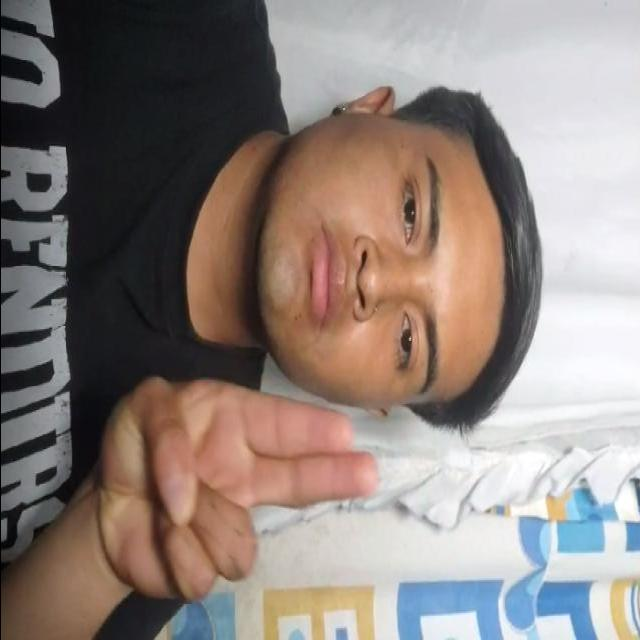U: (80, 336, 384, 628)
